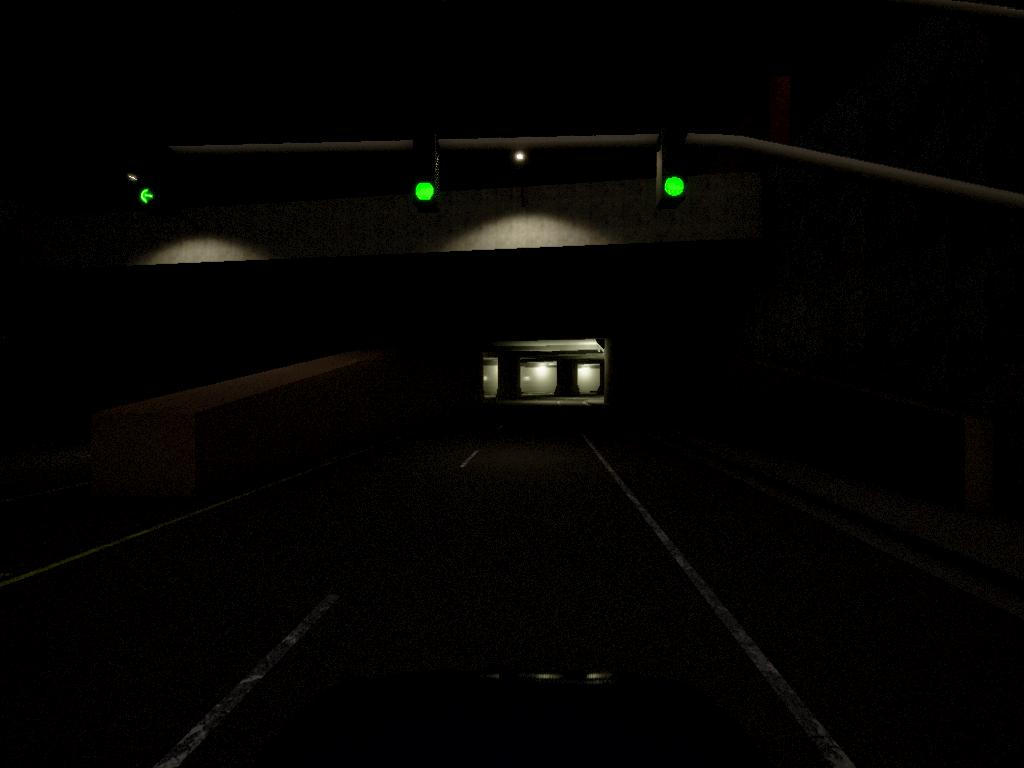traffic_light: (658, 128, 694, 214), (126, 146, 170, 214), (411, 135, 445, 209)
